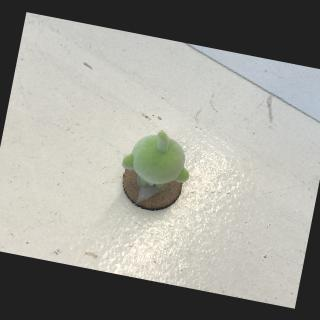teletubby: (122, 131, 188, 188)
